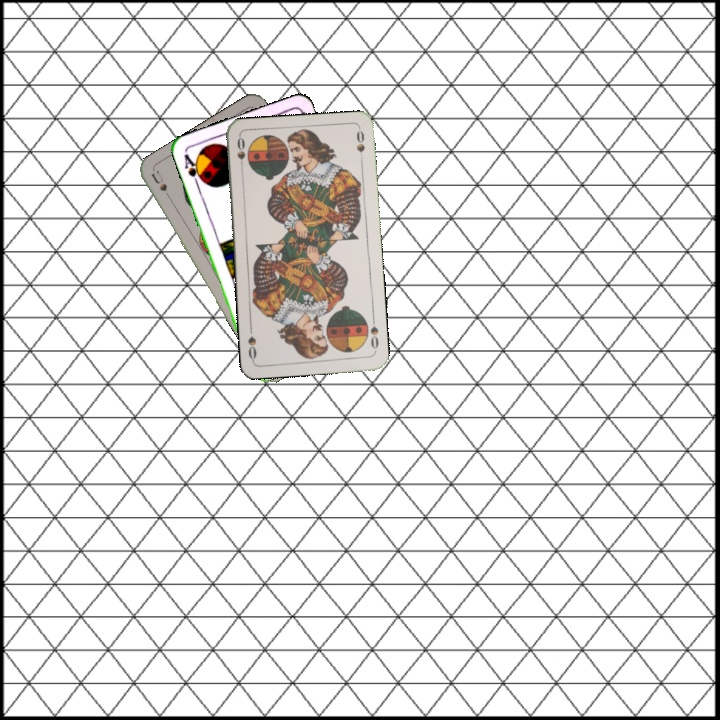SA: (180, 150, 207, 188)
SO: (233, 133, 248, 174), (366, 314, 381, 355)
SU: (148, 167, 176, 206)
